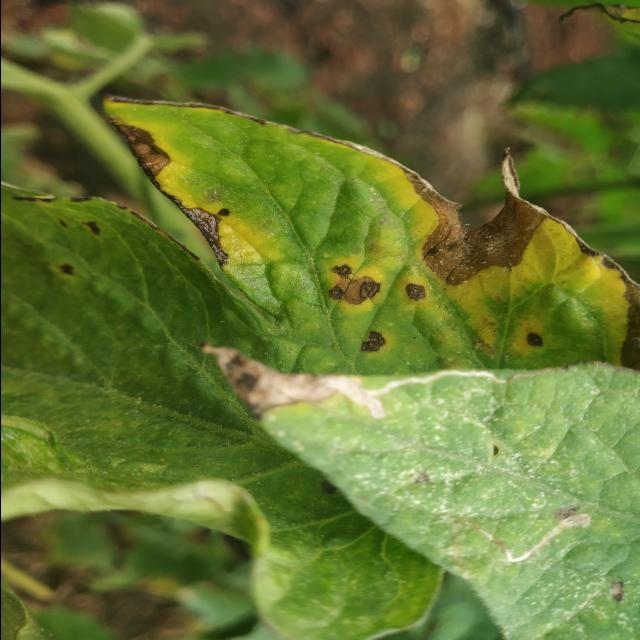Tomato mosaic virus leaf: (96, 85, 640, 363)
